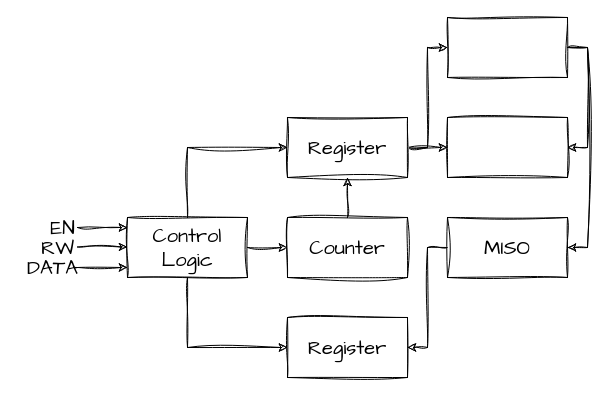
This 613x395 diagram has some shape labels left out. The centre of each missing label's shape, as x and y in pixels:
"Clock" belongs at pixel 507 47.
"MOSI" belongs at pixel 507 147.
